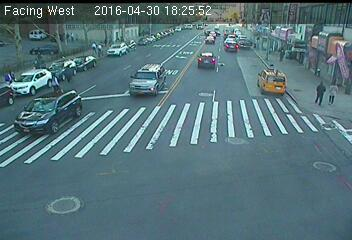neg: (256, 138, 291, 186), (114, 122, 147, 166), (191, 129, 216, 162), (3, 13, 27, 46), (34, 12, 56, 42), (164, 85, 184, 112), (134, 79, 153, 104), (133, 12, 151, 35), (108, 8, 122, 27), (59, 110, 72, 128), (138, 41, 149, 56)
pos: (312, 77, 336, 108), (323, 76, 346, 107), (45, 73, 59, 92), (276, 44, 289, 61), (94, 41, 107, 58), (2, 68, 14, 83), (88, 38, 99, 53), (64, 29, 73, 42), (68, 30, 76, 41)
